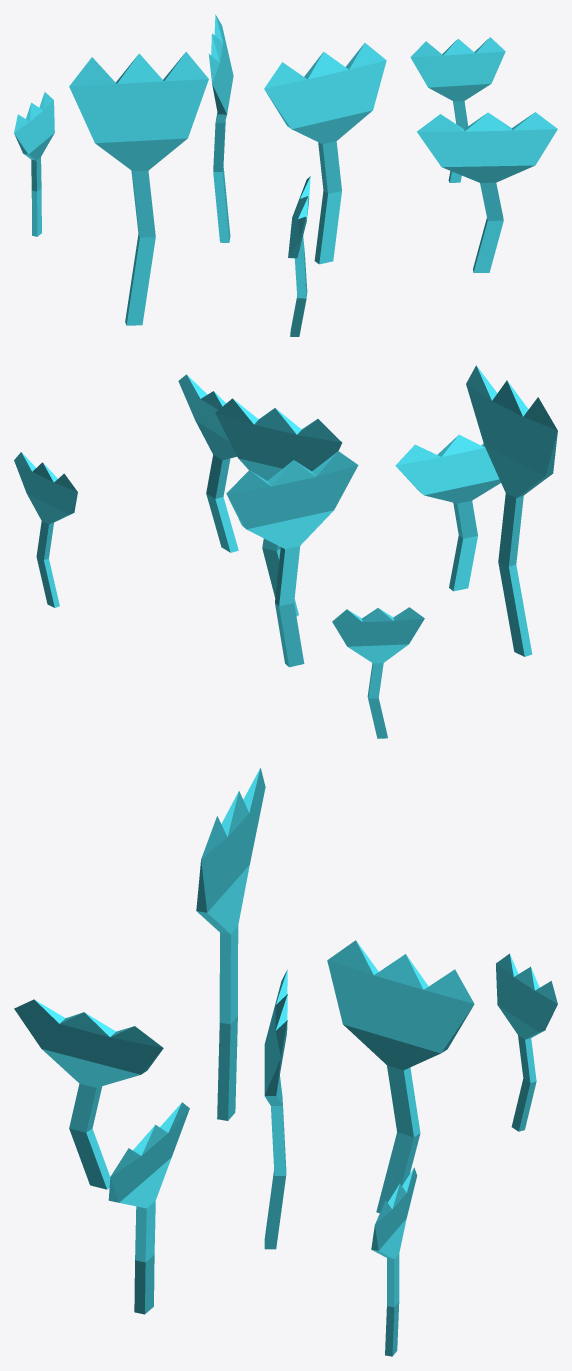
File: flowers.fbx
The picture shows the model from 3 angles, top to bottom: view 1: azimuth 30°, elevation 25°; view 2: azimuth 150°, elevation 25°; view 3: azimuth 270°, elevation 25°; orthographic projection. The views are drawn at different scales.
Parts seen in each view (by area): view 1: Plane.004, Plane, Plane.003, Plane.001, Plane.006, Plane.005, Plane.002; view 2: Plane.004, Plane.006, Plane.002, Plane, Plane.005, Plane.003, Plane.001; view 3: Plane.006, Plane.004, Plane.002, Plane.003, Plane.005, Plane, Plane.001.
Part boxes in pixels (x1,y1,x2,y2): Plane.004: (69,52,208,325); Plane: (264,43,386,264); Plane.003: (417,112,557,272); Plane.001: (410,37,505,182); Plane.006: (208,14,233,242); Plane.005: (14,92,54,236); Plane.002: (288,176,310,336); Plane.004: (466,365,557,656); Plane.006: (226,451,358,667); Plane.002: (395,434,500,591); Plane: (215,398,342,616); Plane.005: (332,607,424,738); Plane.003: (178,374,238,552); Plane.001: (14,452,77,607); Plane.006: (327,940,474,1213); Plane.004: (196,768,265,1120); Plane.002: (14,999,163,1189); Plane.003: (108,1102,189,1314); Plane.005: (496,953,557,1131); Plane: (264,969,287,1249); Plane.001: (371,1167,417,1356).
Bounding box in the file's own units: 703 × 549 × 371.
